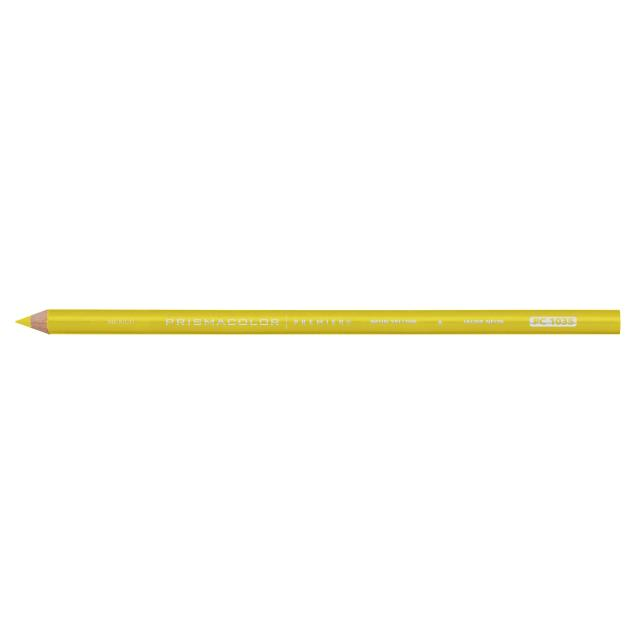pencil: (9, 302, 625, 342)
